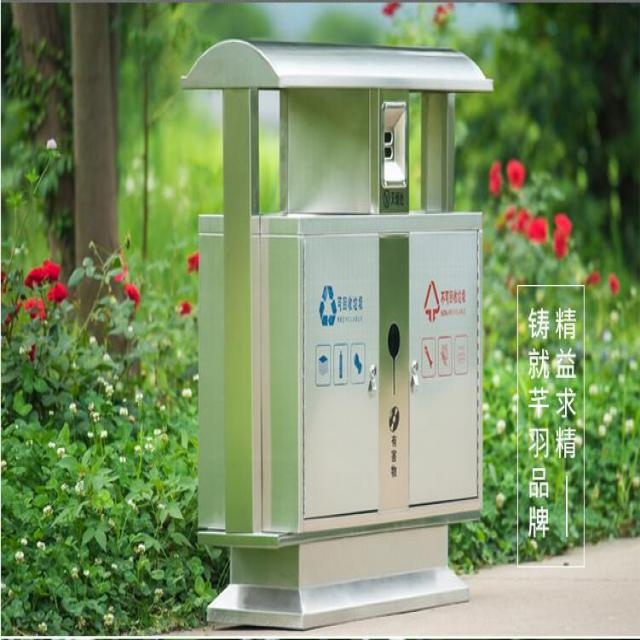ash bin: (176, 30, 501, 638)
